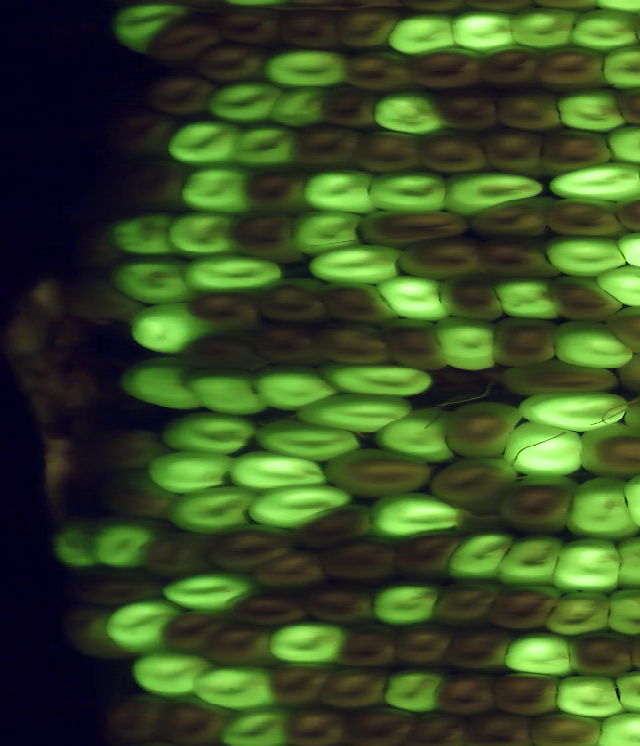fluorescent: (246, 409, 371, 465), (290, 388, 424, 438), (246, 478, 359, 536), (368, 402, 459, 473), (499, 416, 595, 481), (112, 349, 206, 414), (560, 473, 640, 547), (100, 594, 191, 659), (514, 386, 639, 433), (433, 167, 550, 217), (368, 486, 467, 545), (185, 660, 284, 719), (107, 1, 202, 62), (176, 249, 293, 298), (159, 479, 260, 535), (222, 446, 335, 495), (317, 354, 440, 399), (245, 358, 340, 416), (437, 526, 527, 587), (119, 299, 215, 356), (300, 239, 411, 288), (121, 646, 216, 703), (155, 407, 263, 457), (156, 568, 264, 618), (174, 160, 261, 222), (547, 314, 640, 372), (105, 255, 206, 308), (368, 269, 455, 330), (174, 364, 269, 419), (538, 229, 635, 282), (492, 529, 573, 592), (258, 42, 356, 93), (549, 82, 637, 137), (431, 311, 504, 377), (142, 447, 242, 495), (363, 166, 455, 218), (82, 514, 163, 573), (543, 157, 640, 206), (161, 115, 249, 169), (264, 617, 354, 669), (298, 165, 384, 219), (368, 84, 448, 141), (547, 534, 625, 592), (101, 207, 182, 262), (289, 204, 366, 261), (201, 76, 284, 128), (59, 604, 132, 663), (549, 668, 630, 721), (381, 8, 465, 59), (488, 270, 567, 324), (165, 205, 238, 261), (225, 120, 302, 173), (500, 626, 577, 679), (505, 3, 585, 54), (214, 702, 304, 746), (378, 664, 454, 715), (445, 6, 524, 55), (366, 579, 443, 628), (541, 589, 616, 638), (264, 79, 331, 133), (565, 5, 640, 53), (45, 520, 107, 574), (592, 261, 640, 315), (599, 39, 640, 94), (602, 585, 640, 641), (610, 529, 640, 597), (605, 663, 640, 718), (603, 119, 640, 171), (593, 706, 640, 746)
nonfluorescent: (320, 444, 438, 505), (424, 452, 523, 520), (139, 5, 229, 77), (196, 517, 303, 576), (495, 469, 582, 539), (438, 395, 528, 461), (57, 601, 139, 673), (388, 230, 495, 285), (284, 495, 377, 556), (65, 559, 172, 612), (77, 422, 176, 479), (356, 201, 472, 249), (497, 358, 625, 401), (307, 314, 399, 373), (95, 466, 185, 526), (388, 523, 470, 588), (135, 524, 226, 582), (293, 575, 383, 633), (195, 616, 285, 673), (222, 208, 306, 269), (478, 579, 565, 637), (175, 329, 272, 381), (425, 571, 505, 634), (313, 533, 406, 587), (530, 41, 616, 98), (470, 231, 563, 283), (375, 313, 454, 374), (483, 313, 567, 370), (315, 277, 405, 330), (58, 271, 148, 323), (153, 691, 238, 746), (247, 273, 335, 326), (410, 41, 493, 97), (470, 192, 555, 246), (542, 192, 631, 243), (545, 269, 626, 325), (411, 125, 493, 179), (475, 122, 550, 181), (486, 663, 565, 719), (425, 84, 506, 138), (248, 318, 332, 370), (157, 604, 235, 660), (440, 619, 513, 678), (535, 125, 616, 178), (194, 36, 275, 89), (340, 45, 418, 100), (313, 660, 395, 712), (237, 162, 314, 217), (248, 542, 331, 593), (475, 40, 549, 97), (139, 69, 223, 119), (433, 269, 508, 325), (348, 125, 425, 179), (573, 420, 640, 482), (102, 107, 181, 159), (562, 628, 638, 682), (429, 667, 505, 721), (487, 81, 567, 132), (289, 119, 363, 174), (99, 687, 166, 746), (126, 156, 195, 213), (334, 617, 400, 676), (228, 588, 310, 635), (263, 657, 336, 709), (180, 286, 264, 331), (273, 6, 348, 56), (335, 702, 420, 746), (332, 4, 405, 54), (389, 619, 456, 672), (70, 219, 129, 278), (210, 5, 286, 50), (276, 701, 351, 746), (317, 77, 378, 132), (523, 708, 611, 746), (461, 705, 537, 746), (402, 706, 473, 746), (604, 300, 640, 358), (608, 82, 640, 132), (609, 188, 640, 239)
